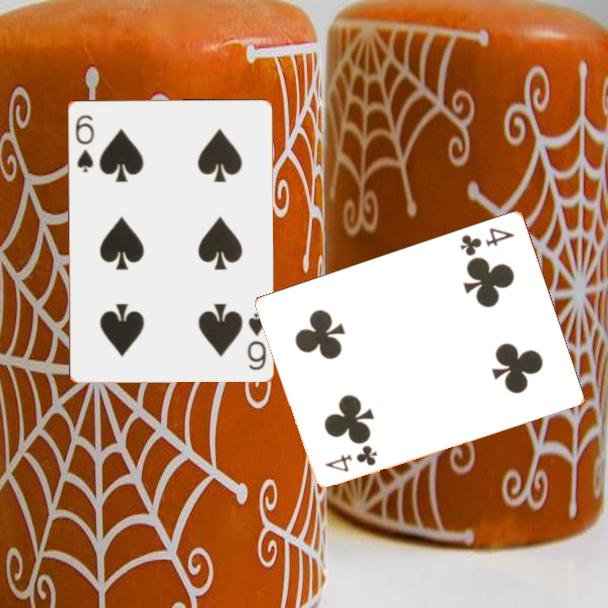c04: (457, 224, 517, 258), (321, 442, 381, 474)
s06: (72, 111, 97, 175), (244, 309, 269, 373)
